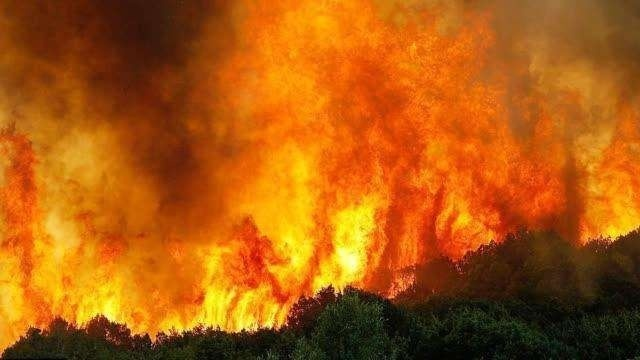fire: (15, 10, 604, 332)
